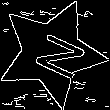N_NW: (20, 24, 83, 82)
